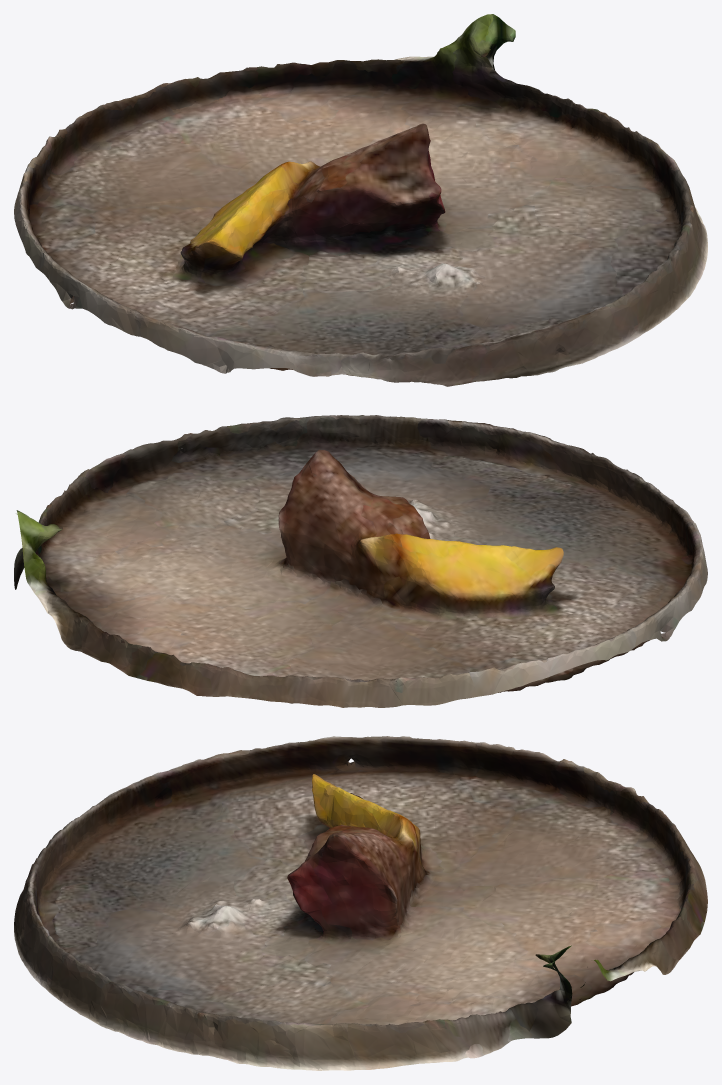
File: steak_meat.glb
3 views of the same model, one above another, from view 1: azimuth 30°, elevation 25°; view 2: azimuth 150°, elevation 25°; view 3: azimuth 270°, elevation 25° (orthographic).
Parts seen in each view (by area): view 1: mesh; view 2: mesh; view 3: mesh.
Part boxes in pixels (<box>): mesh: <box>14,14,707,386</box>; mesh: <box>14,415,707,707</box>; mesh: <box>14,736,707,1070</box>.
Bounding box in the file's own units: 0.2595 × 0.0501 × 0.26.
Materials: 1 (1 with a texture image).
